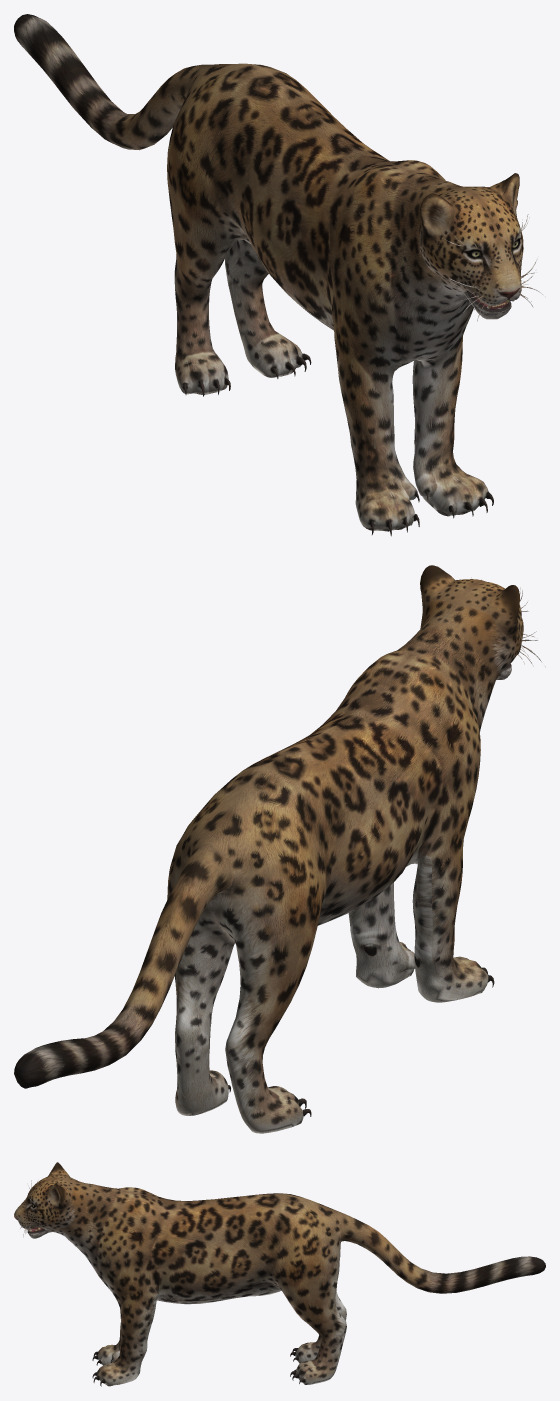
File: Jaguar2.gltf
3 views of the same model, one above another, from view 1: azimuth 30°, elevation 25°; view 2: azimuth 150°, elevation 25°; view 3: azimuth 270°, elevation 25° (orthographic). The views are drawn at different scales.
Parts seen in each view (by area): view 1: Jaguar; view 2: Jaguar; view 3: Jaguar.
Part boxes in pixels (<box>): Jaguar: <box>14,14,542,536</box>; Jaguar: <box>14,565,545,1133</box>; Jaguar: <box>14,1162,545,1386</box>.
Bounding box in the file's own units: 1.82 × 4.95 × 11.99.
Materials: 1 (1 with a texture image).
